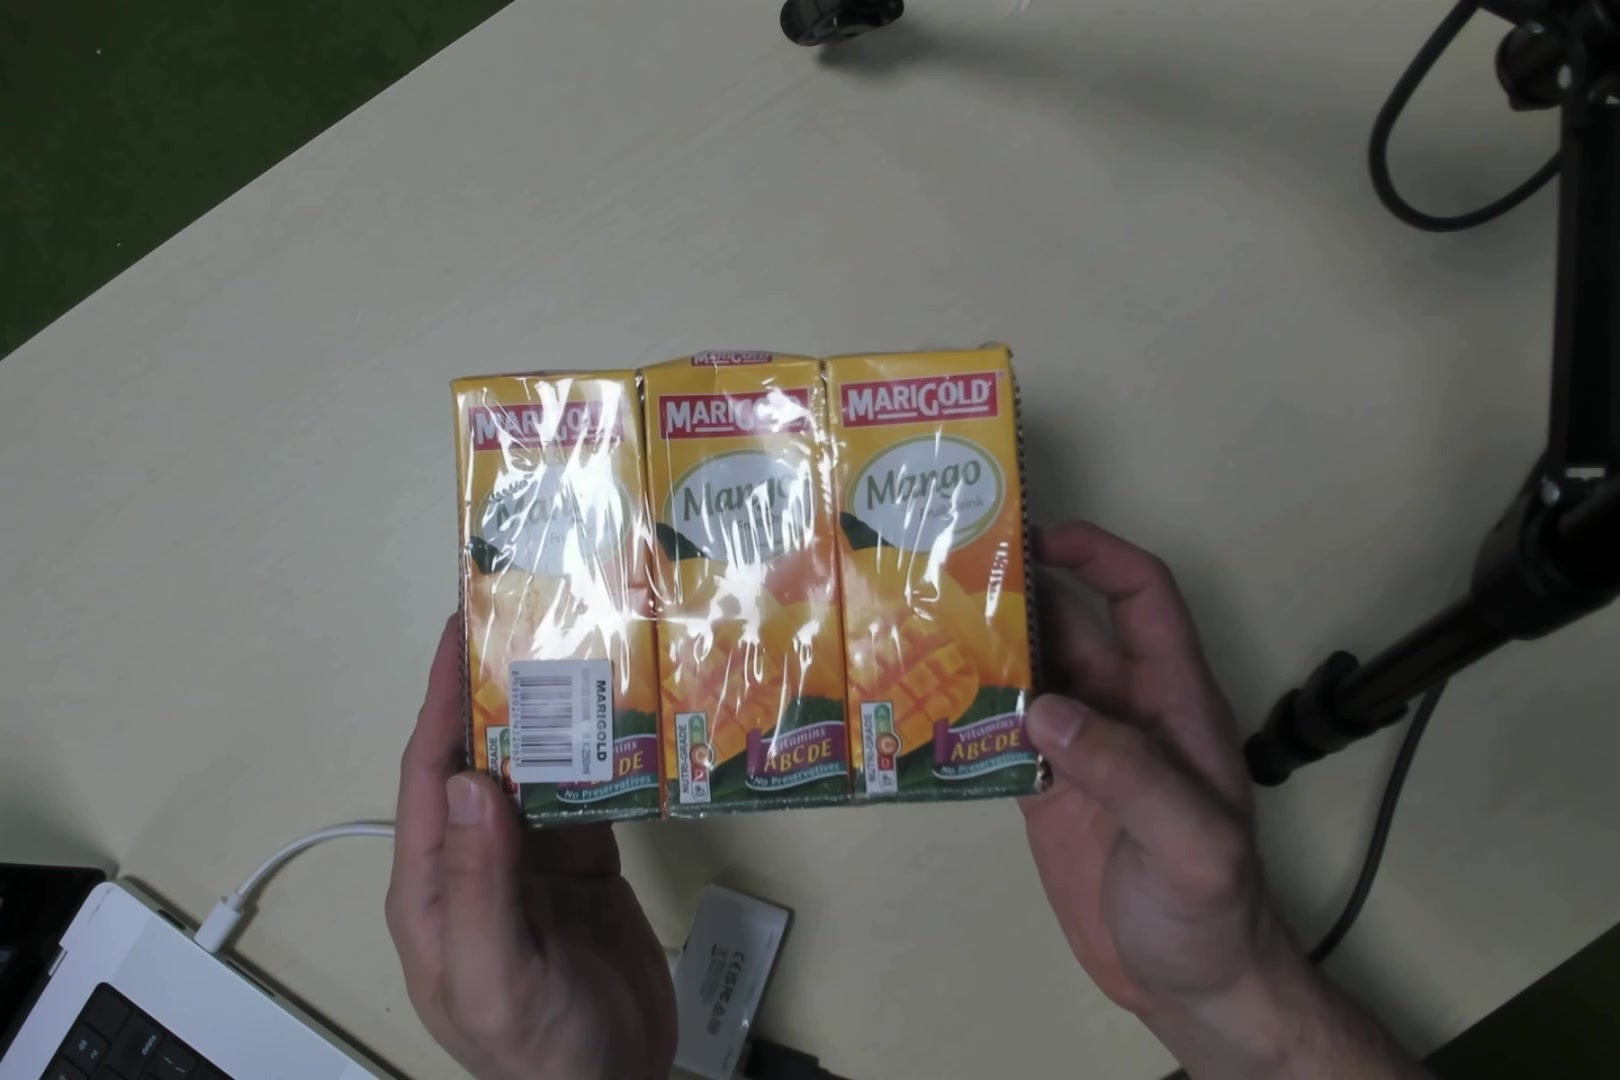FruitJuice_700-799g_Halal_NonHealthy: (438, 304, 1056, 817)
